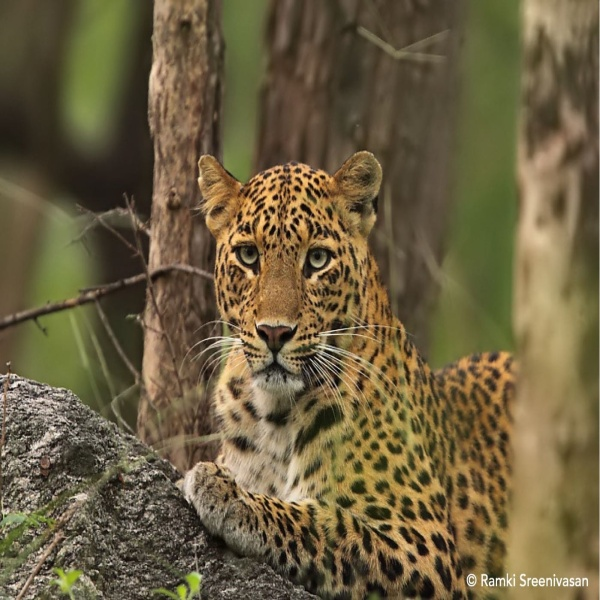Leopard: (174, 148, 529, 600)
